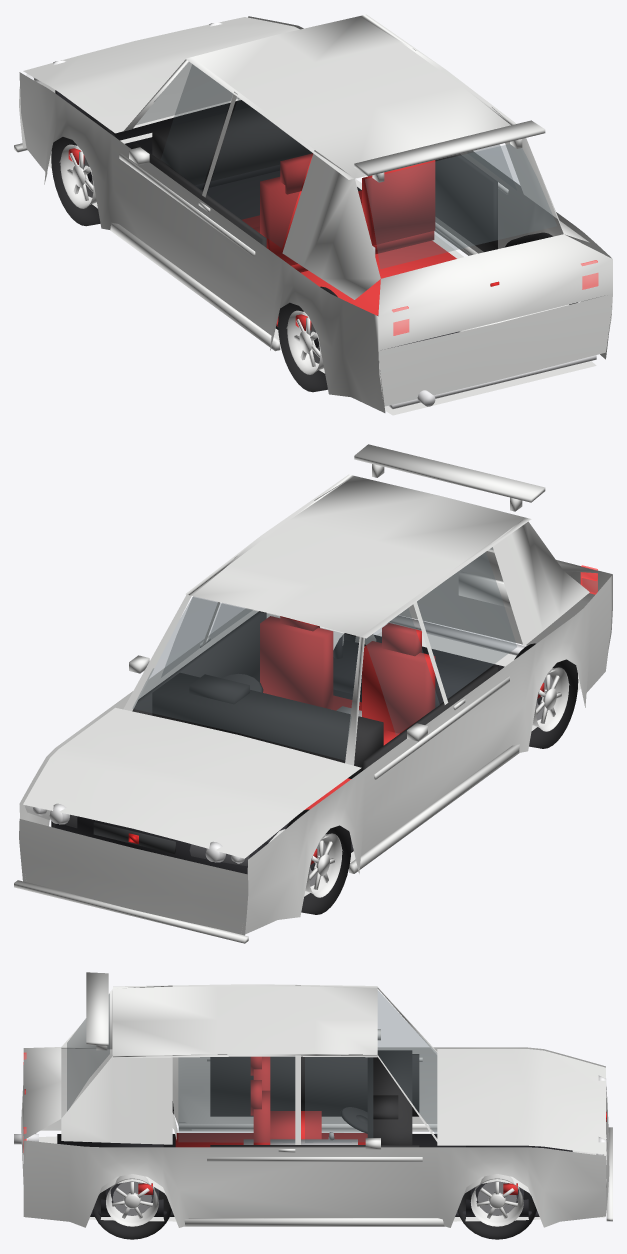
The model's file is vehicle.glb.
The picture shows the model from 3 angles, top to bottom: view 1: azimuth 30°, elevation 25°; view 2: azimuth 150°, elevation 25°; view 3: azimuth 270°, elevation 25°; orthographic projection. The views are drawn at different scales.
Visible parts, largest first — view 1: Cabin, Rear_Glass, Rear_Clip, Seats, Rear_Side, Dashboard, Door_Panels, Front_Side, Rear_Spoiler, Windshield, Side_Skirts, Chassis (+10 smaller); view 2: Cabin, Windshield, Front_Clip, Seats, Dashboard, Rear_Side, Front_Side, Rear_Clip, Door_Panels, Rear_Spoiler, Side_Skirts, Hood (+10 smaller); view 3: Cabin, Rear_Side, Door_Panels, Front_Side, Seats, Windshield, Dashboard, Side_Skirts, Rear_Glass, Rear_Spoiler, Doors, Tire_Wheel_FL (+13 smaller).
Part boxes in pixels (left/top/right/bottom): Cabin: left=19, top=14, right=612, bottom=415; Rear_Glass: left=365, top=144, right=556, bottom=268; Rear_Clip: left=378, top=293, right=612, bottom=406; Seats: left=242, top=153, right=456, bottom=326; Rear_Side: left=207, top=98, right=516, bottom=247; Dashboard: left=152, top=107, right=312, bottom=185; Door_Panels: left=131, top=143, right=497, bottom=251; Front_Side: left=161, top=64, right=232, bottom=190; Rear_Spoiler: left=354, top=120, right=545, bottom=182; Windshield: left=136, top=62, right=238, bottom=124; Side_Skirts: left=110, top=222, right=477, bottom=351; Chassis: left=125, top=137, right=361, bottom=329; Cabin: left=19, top=474, right=612, bottom=934; Windshield: left=132, top=597, right=358, bottom=760; Front_Clip: left=19, top=819, right=248, bottom=935; Seats: left=260, top=616, right=435, bottom=809; Dashboard: left=152, top=673, right=383, bottom=778; Rear_Side: left=207, top=552, right=516, bottom=698; Front_Side: left=161, top=596, right=439, bottom=735; Rear_Clip: left=399, top=571, right=612, bottom=657; Door_Panels: left=132, top=611, right=497, bottom=770; Rear_Spoiler: left=354, top=444, right=545, bottom=511; Side_Skirts: left=349, top=744, right=519, bottom=873; Hood: left=55, top=814, right=258, bottom=874; Cabin: left=23, top=984, right=605, bottom=1227; Rear_Side: left=178, top=1057, right=294, bottom=1142; Door_Panels: left=210, top=1054, right=419, bottom=1147; Front_Side: left=305, top=1057, right=372, bottom=1142; Seats: left=175, top=1056, right=367, bottom=1147; Windshield: left=378, top=991, right=436, bottom=1135; Dashboard: left=367, top=1050, right=412, bottom=1144; Side_Skirts: left=179, top=1122, right=444, bottom=1226; Rear_Glass: left=67, top=994, right=109, bottom=1110; Rear_Spoiler: left=86, top=972, right=108, bottom=1050; Doors: left=207, top=1029, right=422, bottom=1161; Tire_Wheel_FL: left=457, top=1190, right=536, bottom=1239.
Bounding box in the file's own units: 1.93 × 1.46 × 4.3.
